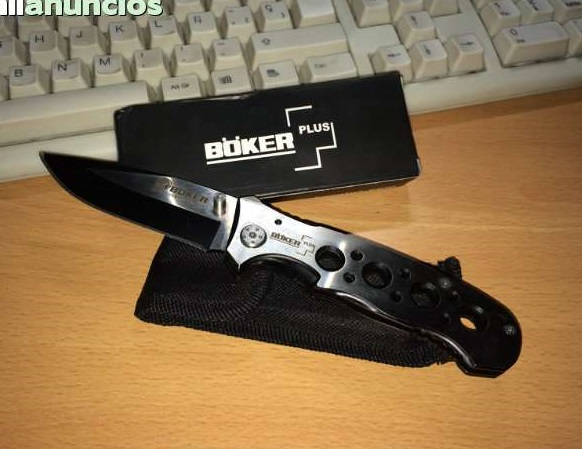knife: (28, 144, 270, 275)
